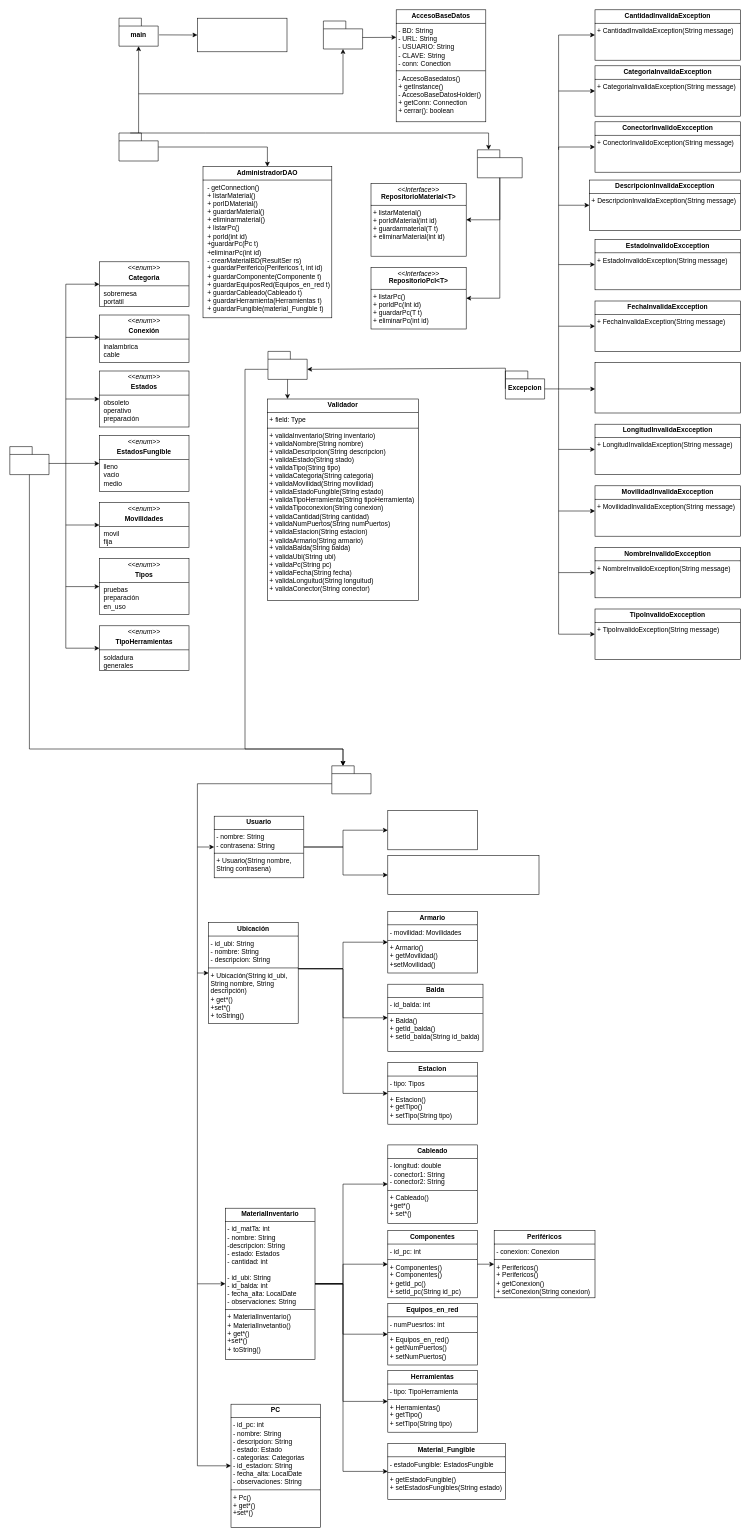
The diagram is 750 pixels wide and 1537 high, and some of its shapes have lost their labels. The shapes that lost their labels are listed below. From the top down, each one's centre as x and y in pixels, then its label:
At point (242, 35): "Main + field: Type".
At point (343, 34): "AccesoBD".
At point (138, 146): "DAO".
At point (499, 163): "Repositorio".
At point (287, 365): "Validador".
At point (667, 387): "IdInvalidoExcception + IdInvalidoException( String message)".
At point (29, 460): "Enum".
At point (351, 779): "objetos".
At point (432, 830): "Administrador + Adminsitrador(String nombre, String contraseña)".
At point (463, 875): "Profesor + Profesor(String nombre, String contraseña)".
